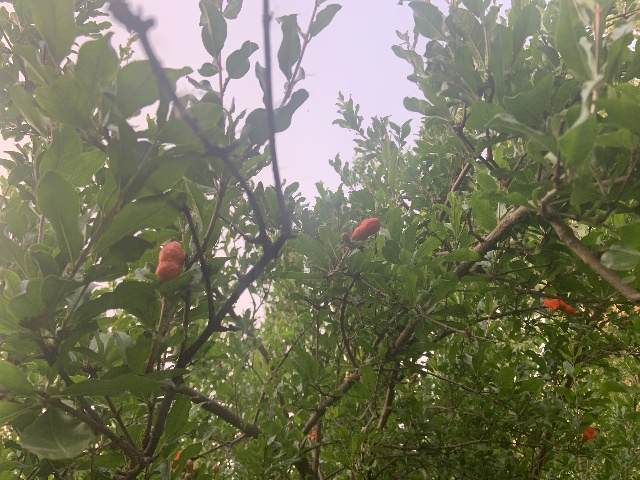bud: (155, 241, 185, 283), (351, 217, 380, 241), (185, 459, 193, 473)
flower: (543, 293, 575, 314), (582, 426, 596, 441), (306, 426, 315, 440)
